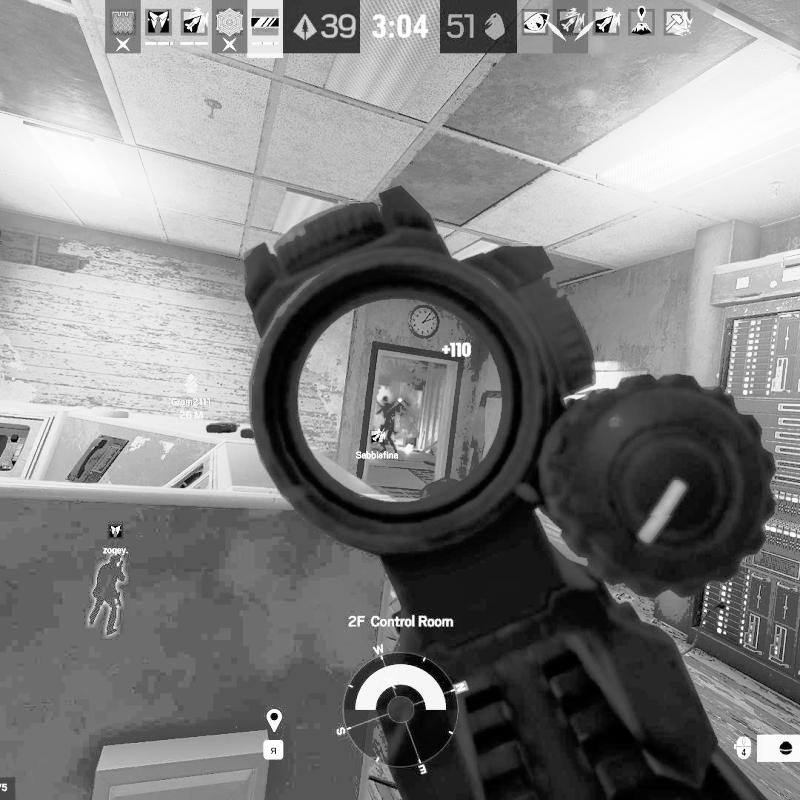Character: (375, 394, 399, 454)
Friend_label: (356, 428, 398, 460), (101, 523, 130, 555)
Head: (382, 395, 388, 403)
